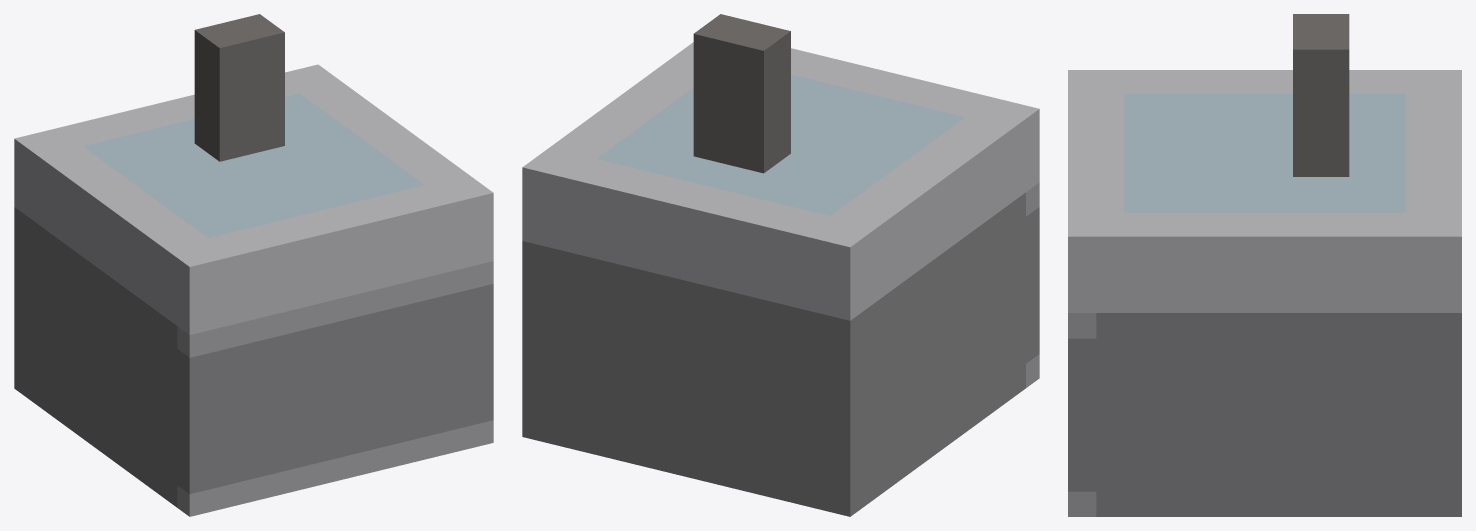
File: fregadero_acero_01.glb
3 views of the same model, side by side, from view 1: azimuth 30°, elevation 25°; view 2: azimuth 150°, elevation 25°; view 3: azimuth 270°, elevation 25° (orthographic). The views are drawn at different scales.
Parts seen in each view (by area): view 1: fregadero_acero; view 2: fregadero_acero; view 3: fregadero_acero.
Boxes of the visible parts, x1,y1,x2,y2 form: fregadero_acero: (14,14,493,516); fregadero_acero: (522,14,1039,516); fregadero_acero: (1068,14,1461,516).
Bounding box in the file's own units: 1 × 1.14 × 1.
